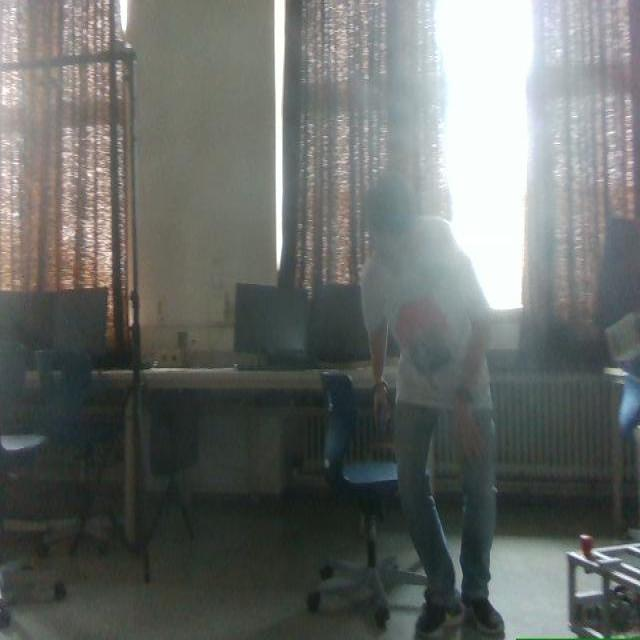objects: (307, 372, 426, 627), (36, 350, 123, 554), (598, 218, 639, 433), (0, 342, 46, 533), (145, 391, 198, 547), (605, 312, 639, 434)
